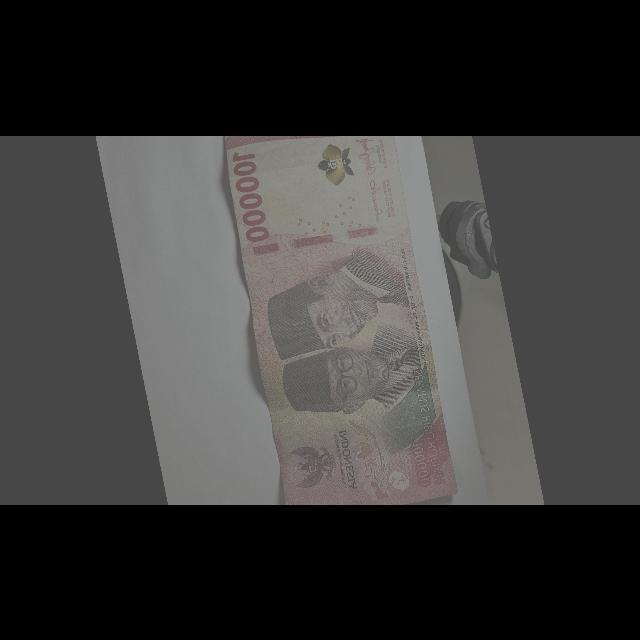Palsu-100k: (214, 104, 462, 529)
Tinta-Palsu-100k: (311, 138, 357, 190)
